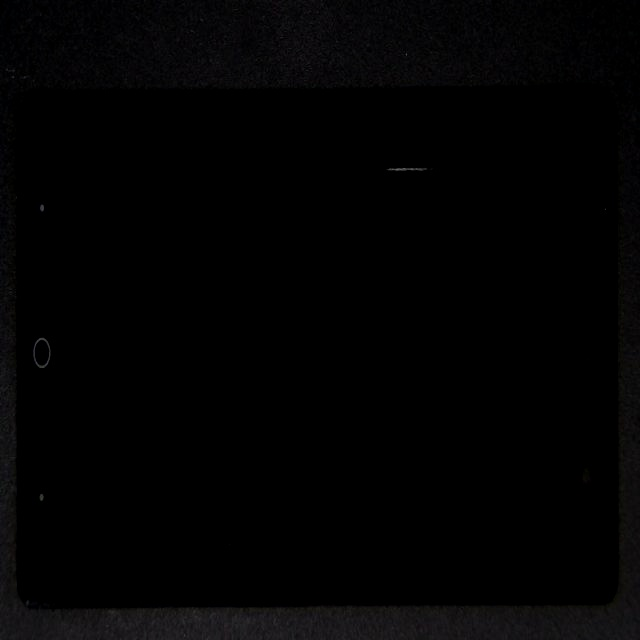scratch: (197, 39, 572, 239)
